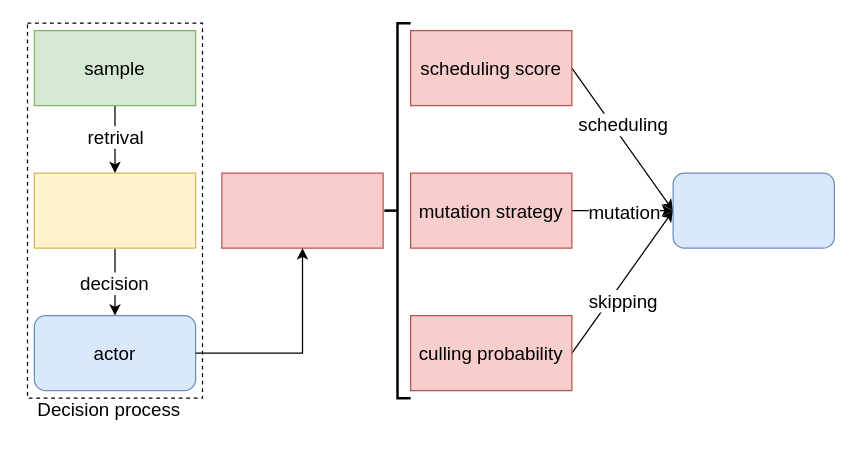
This 856x449 diagram has some shape labels left out. The shapes that lost their labels are listed below. From the top down, each one's centre as x and y in pixels, then its label:
the point at 114,210: state
the point at 302,210: fuzzing strategy
the point at 753,210: fuzzer
